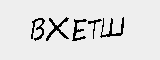В: (29, 17, 45, 42)
Е: (68, 15, 89, 40)
Т: (83, 16, 102, 39)
Х: (44, 15, 69, 40)
Ш: (99, 16, 126, 37)
